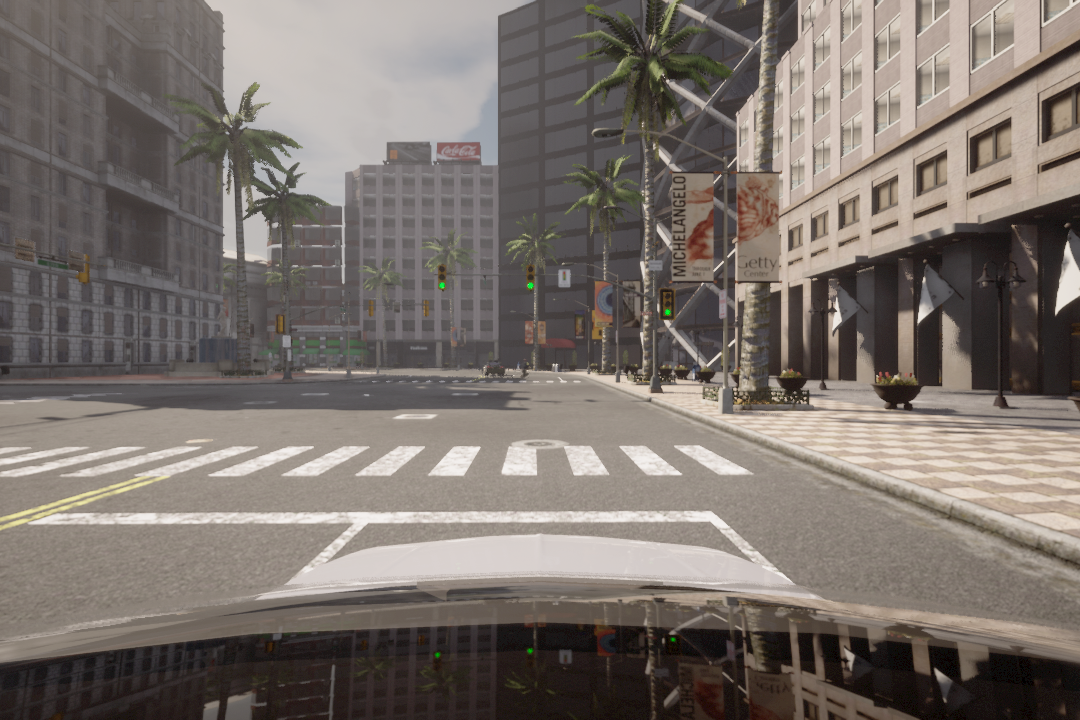TrafficLight: (661, 289, 675, 321), (525, 263, 537, 294), (437, 264, 447, 291)
walkside: (1, 444, 760, 484)
